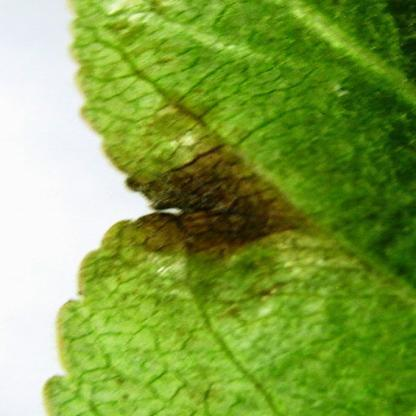Apple Scab Leaf: (9, 0, 392, 404)
